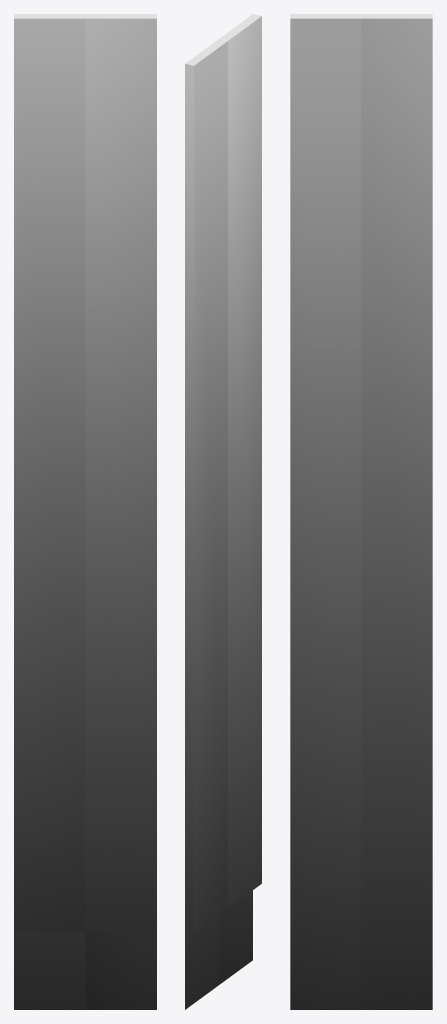
The model's file is HoleStraightPieces.fbx.
3 views of the same model, side by side, from view 1: azimuth 90°, elevation 25°; view 2: azimuth 150°, elevation 25°; view 3: azimuth 270°, elevation 25° (orthographic). The views are drawn at different scales.
Visible parts, largest first — view 1: HoleStraightV1, HoleStraightV2; view 2: HoleStraightV1, HoleStraightV2; view 3: HoleStraightV1, HoleStraightV2.
Part boxes in pixels (x1,y1,x2,y2): HoleStraightV1: [14, 14, 85, 1009]; HoleStraightV2: [85, 14, 156, 1009]; HoleStraightV1: [185, 39, 227, 1009]; HoleStraightV2: [219, 14, 261, 984]; HoleStraightV1: [361, 14, 432, 1009]; HoleStraightV2: [290, 14, 361, 1009].
Bounding box in the file's own units: 0.0756 × 7.7 × 1.
